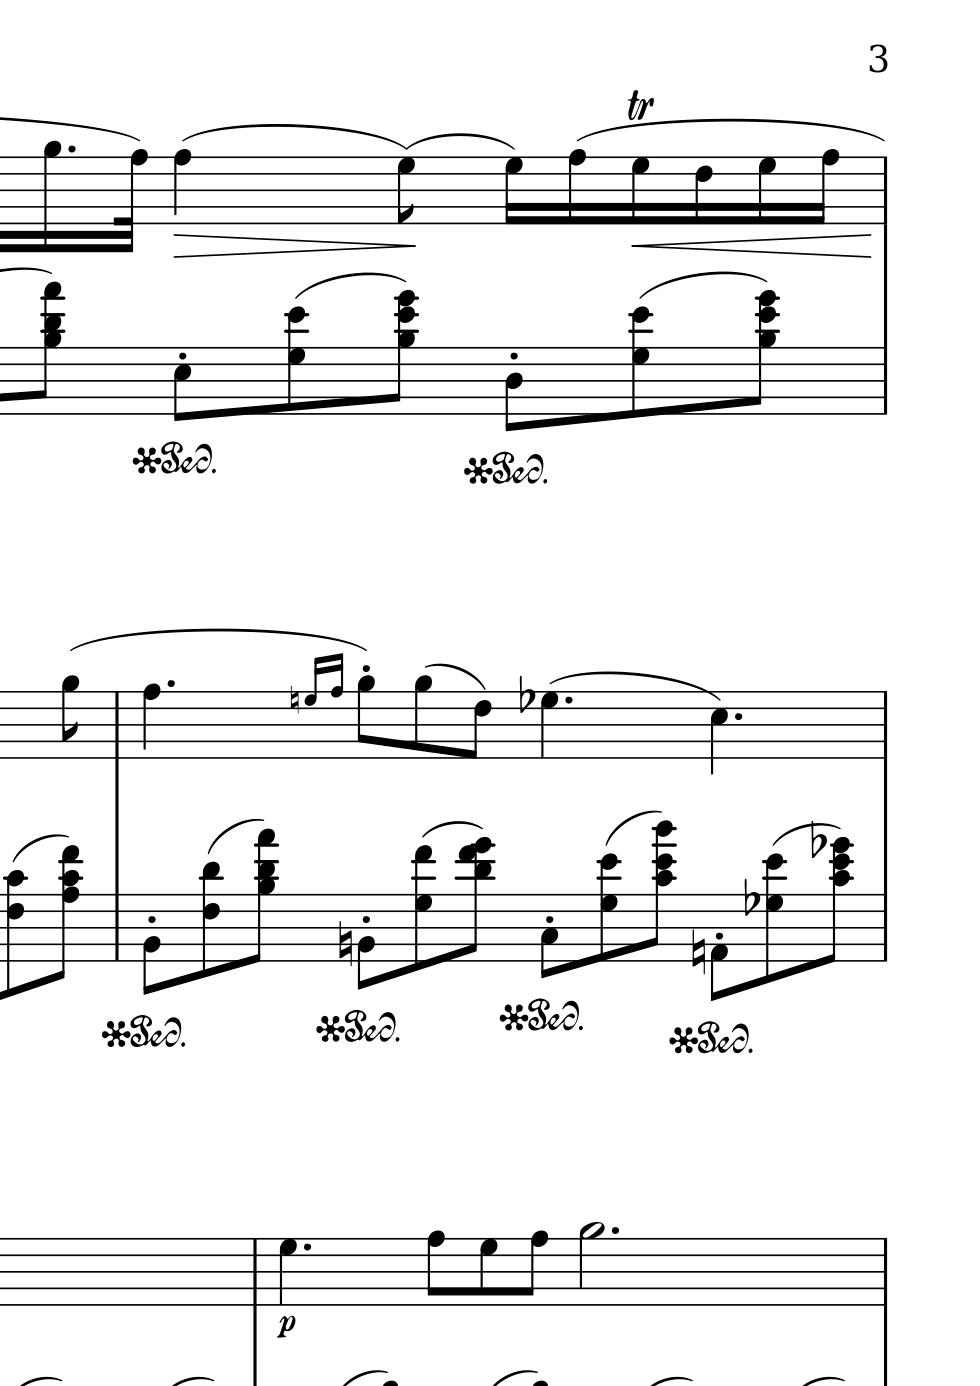16_6: (693, 155, 714, 226)
16_7: (755, 155, 778, 228), (629, 155, 651, 228), (503, 155, 524, 228)
16_8: (807, 150, 840, 226), (566, 148, 587, 227)
16_9: (41, 137, 64, 255)
2_9: (575, 1220, 605, 1308)
3: (867, 42, 889, 74)
32_8: (115, 147, 148, 255)
4_5: (708, 689, 729, 776)
4_7: (539, 690, 561, 761), (277, 1236, 299, 1308)
4_8: (171, 148, 192, 226), (141, 683, 161, 761)
8_1: (708, 893, 728, 1001)
8_2: (140, 892, 162, 997), (354, 893, 375, 992)
8_3: (537, 893, 559, 980)
8_4: (502, 346, 524, 434)
8_5: (171, 346, 192, 424)
8_6: (463, 689, 493, 760)
8_6_10: (3, 869, 28, 996)
8_6_11: (198, 859, 224, 978)
8_7: (477, 1236, 498, 1308), (396, 155, 416, 226)
8_7_12: (762, 850, 788, 984), (627, 305, 652, 417), (596, 853, 622, 964), (283, 306, 308, 416)
8_7_13: (412, 844, 434, 970)
8_8: (518, 1228, 549, 1308), (424, 1229, 447, 1308)
8_9: (408, 673, 431, 762), (354, 674, 377, 761), (59, 674, 80, 762)
8_th: (454, 835, 498, 962), (640, 817, 678, 963), (47, 844, 84, 985), (243, 825, 279, 966), (820, 834, 857, 968)
Appoggiature_2: (303, 652, 347, 759)
Crescendo_hairpin: (629, 233, 873, 261)
Diminuendo_hairpin: (174, 233, 415, 258)
Flat: (807, 819, 827, 861), (742, 876, 762, 918), (517, 674, 532, 717)
Natural: (336, 919, 353, 968), (690, 927, 706, 976), (288, 684, 300, 716)
Single_barline: (876, 348, 893, 415), (876, 691, 893, 758), (108, 894, 125, 961), (109, 692, 125, 759), (247, 1239, 263, 1305), (876, 895, 892, 961), (877, 1238, 892, 1305), (877, 157, 892, 224)
Slur: (71, 627, 367, 653), (576, 119, 887, 143), (549, 670, 721, 702), (182, 125, 406, 150), (637, 271, 767, 301), (293, 271, 406, 300), (208, 818, 263, 855), (606, 809, 662, 845), (406, 133, 515, 150), (12, 834, 68, 864), (428, 662, 486, 690), (771, 823, 839, 846), (423, 818, 480, 838), (489, 1368, 538, 1386), (340, 1368, 388, 1386), (171, 1375, 211, 1386), (802, 1375, 842, 1386), (20, 1376, 59, 1386), (651, 1376, 690, 1386)
Trill: (624, 87, 654, 122)
dot: (64, 142, 78, 157), (164, 677, 177, 691), (731, 710, 743, 724), (300, 1241, 313, 1255), (608, 1224, 620, 1236), (562, 694, 574, 706)
p: (274, 1313, 297, 1343)
